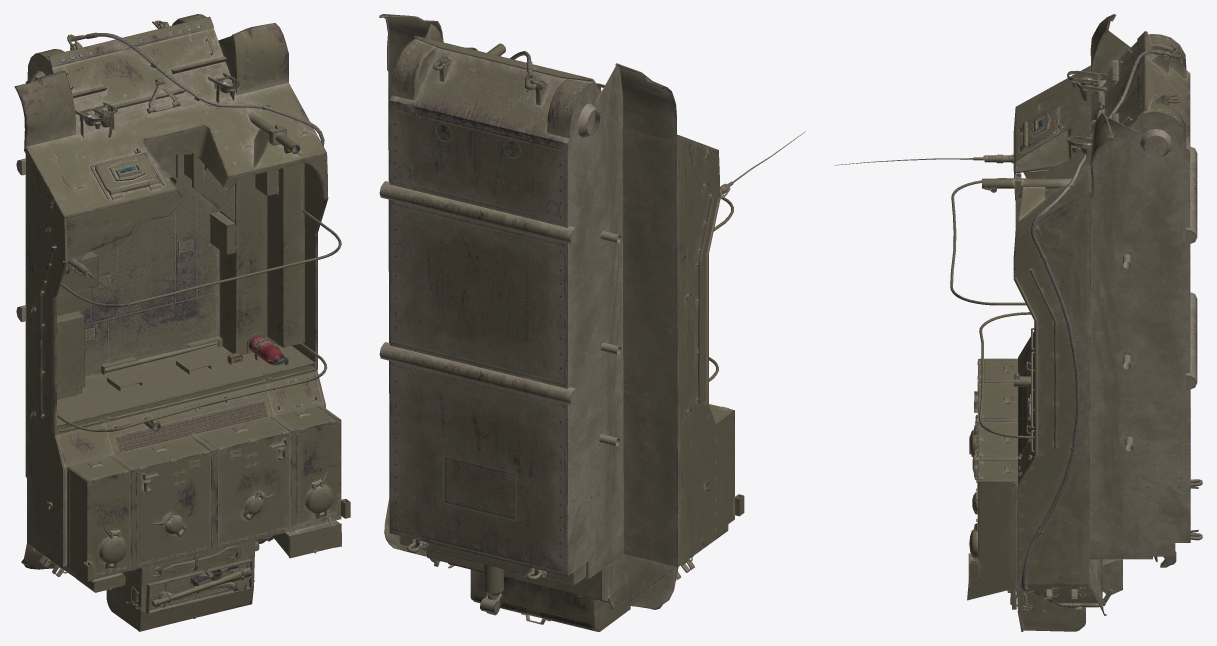
File: Hull.glb
3 views of the same model, side by side, from view 1: azimuth 30°, elevation 25°; view 2: azimuth 150°, elevation 25°; view 3: azimuth 270°, elevation 25° (orthographic). The views are drawn at different scales.
Parts seen in each view (by area): view 1: set_0_group_0; view 2: set_0_group_0; view 3: set_0_group_0.
Boxes of the visible parts, <box> form: set_0_group_0: <box>14,14,350,631</box>; set_0_group_0: <box>379,14,805,631</box>; set_0_group_0: <box>834,14,1202,631</box>.
Bounding box in the file's own units: 2.49 × 4.72 × 2.89.
Materials: 1 (1 with a texture image).
